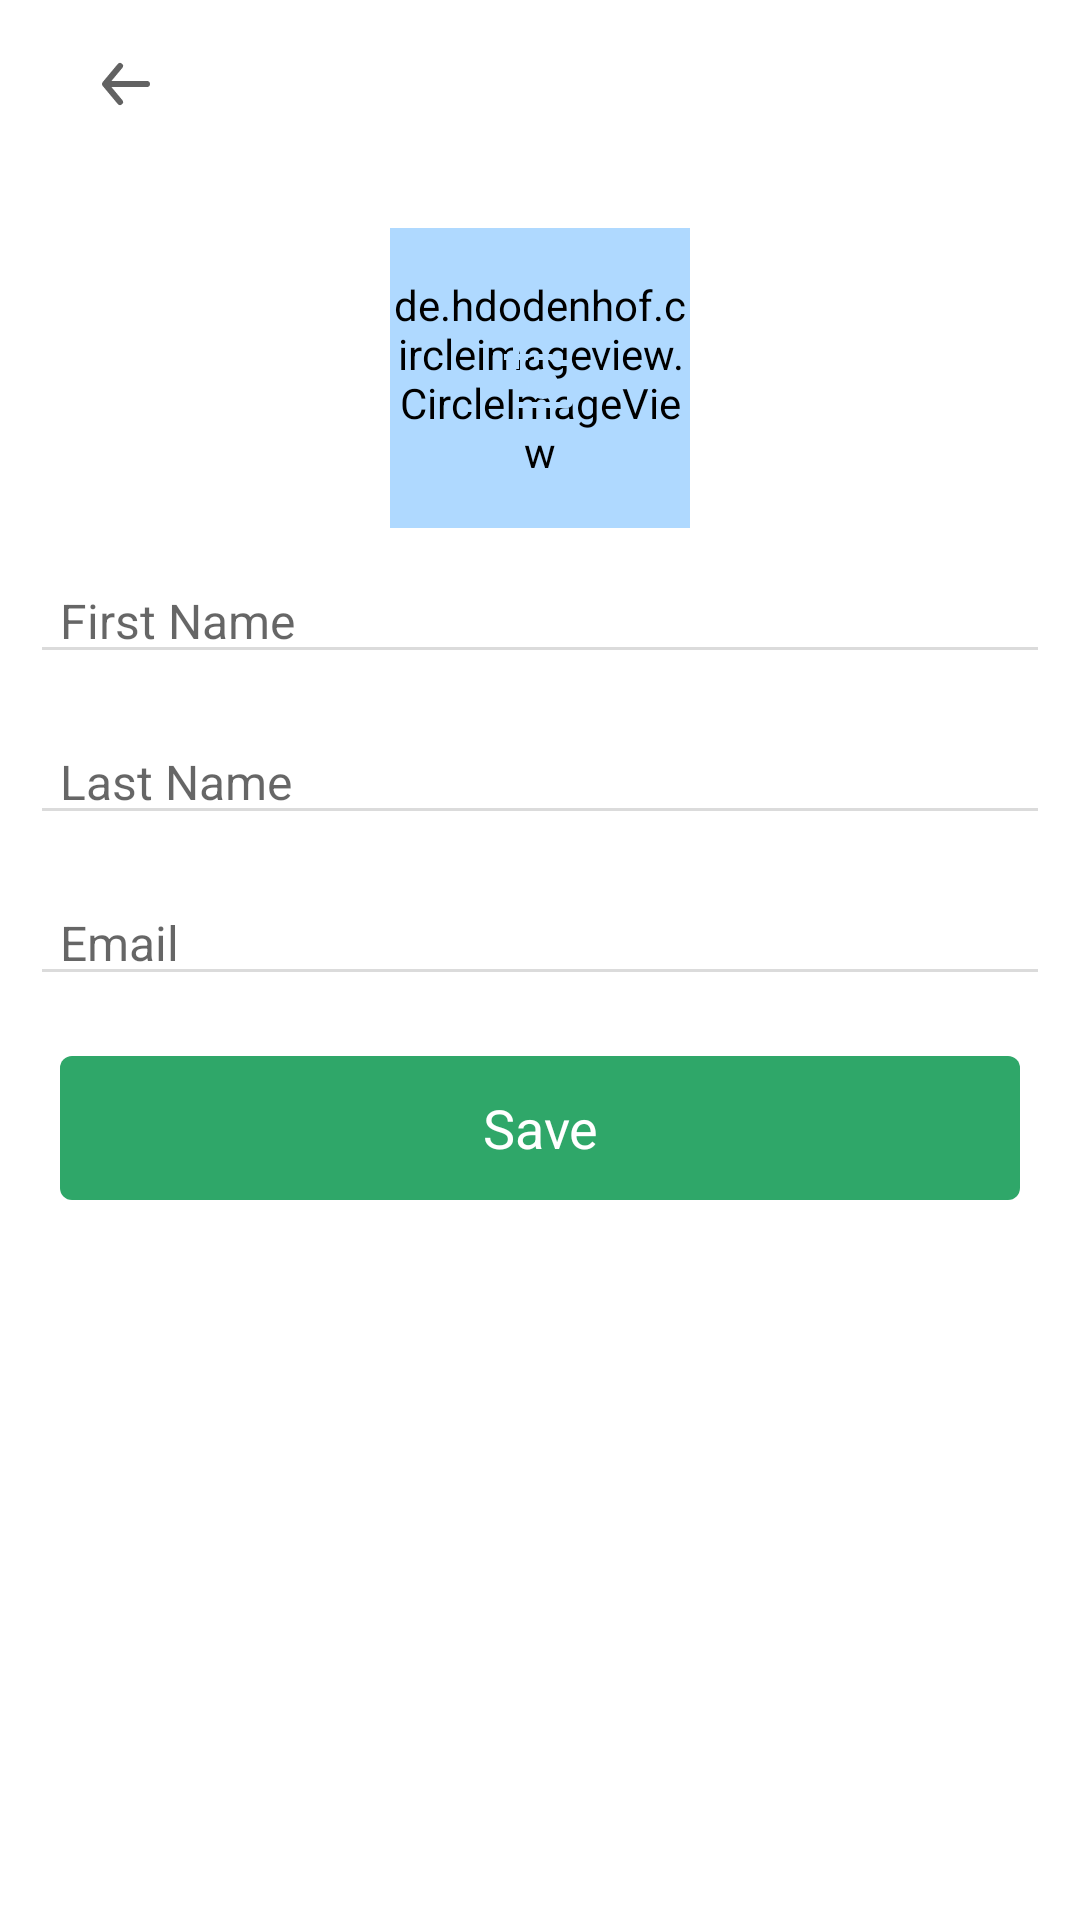

Icons on this 1080 x 1920 Android screen, each with the point to tap as (x=x, y=y):
back: (x=126, y=84)
